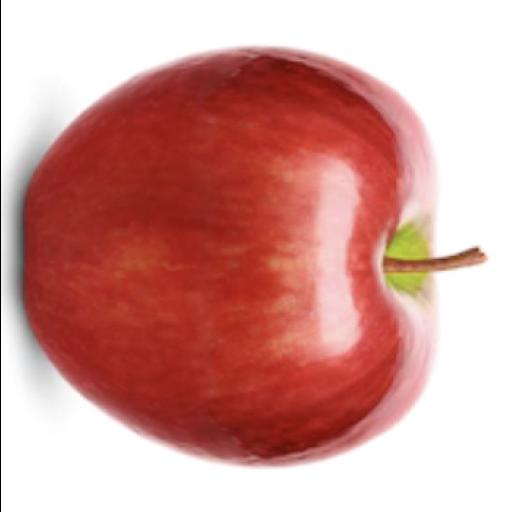apple: (24, 48, 450, 465)
